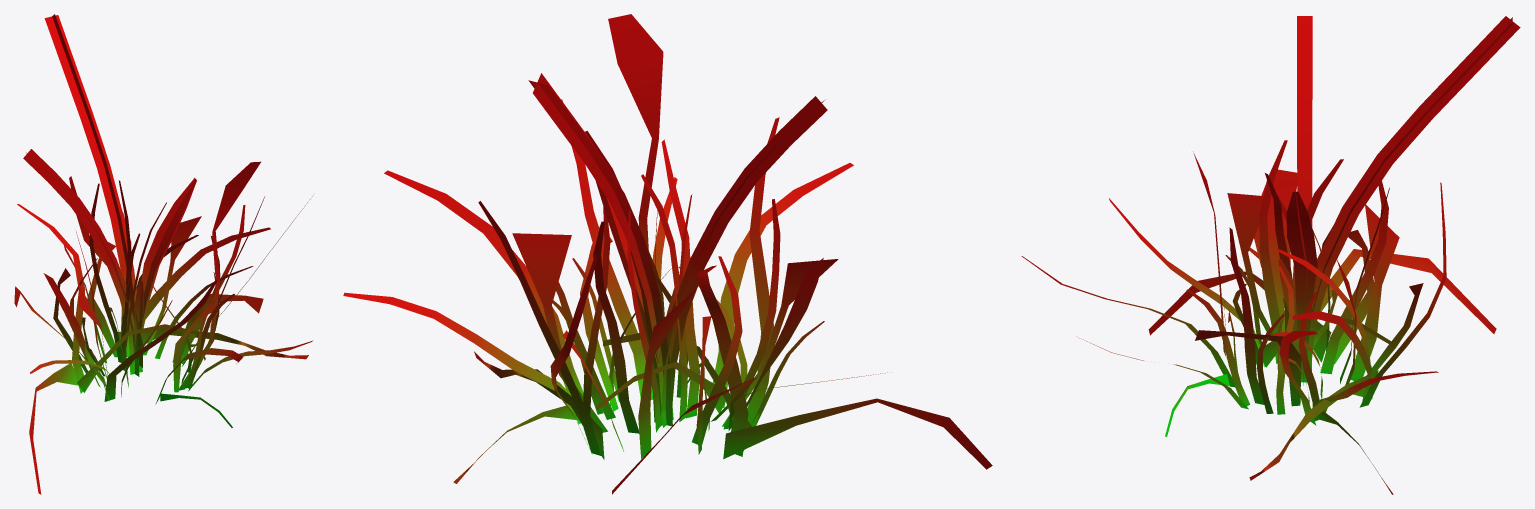
File: Var6_LOD1.fbx
The picture shows the model from 3 angles, left to right: view 1: azimuth 30°, elevation 25°; view 2: azimuth 150°, elevation 25°; view 3: azimuth 270°, elevation 25°; orthographic projection. The views are drawn at different scales.
Parts seen in each view (by area): view 1: _6dff_Var6_LOD1; view 2: _6dff_Var6_LOD1; view 3: _6dff_Var6_LOD1.
Boxes of the visible parts, x1=… form: _6dff_Var6_LOD1: x1=14, y1=14, x2=312, y2=494; _6dff_Var6_LOD1: x1=343, y1=14, x2=992, y2=494; _6dff_Var6_LOD1: x1=1021, y1=16, x2=1520, y2=494.
Size of the model in its own units: 26.67 by 25.01 by 27.14.
